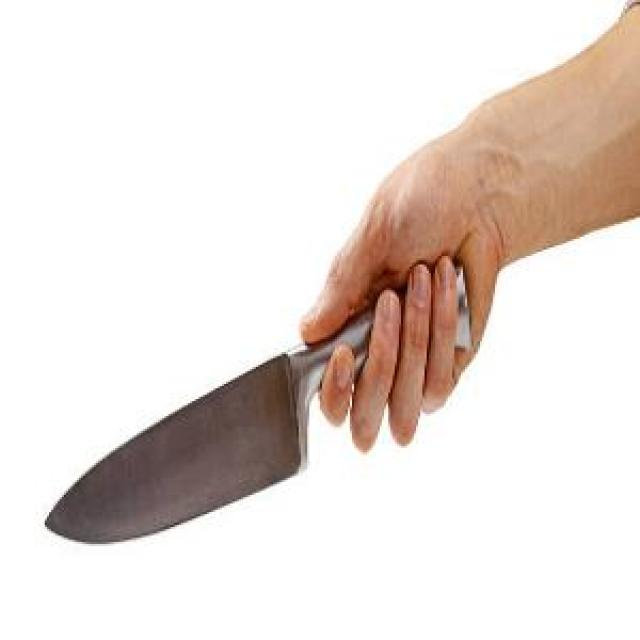knife: (47, 256, 474, 548)
